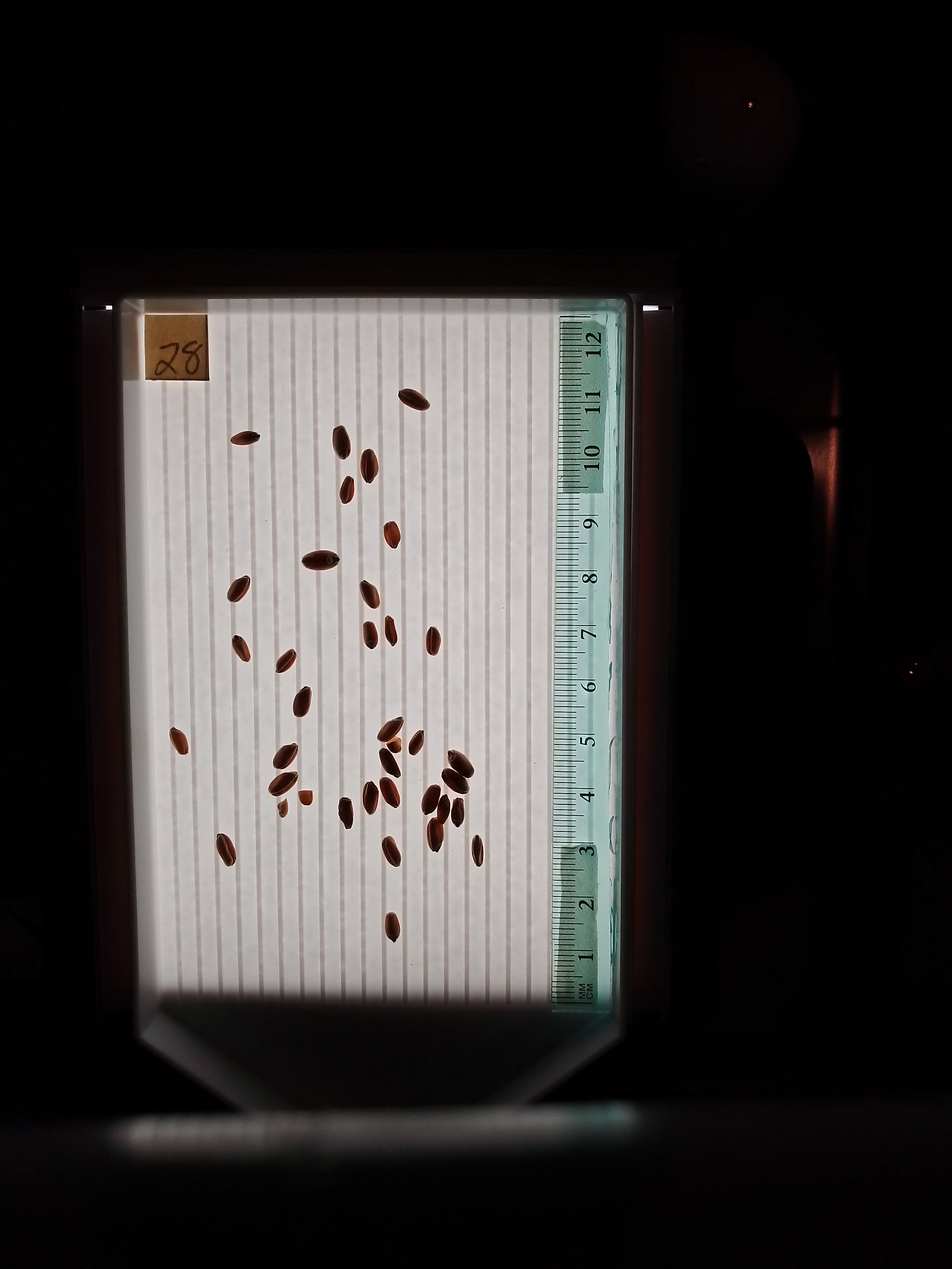seed mask: (302, 550, 339, 571), (447, 750, 474, 778), (268, 771, 297, 796), (399, 389, 430, 411), (443, 767, 468, 794), (426, 817, 445, 852), (216, 834, 236, 867), (360, 450, 379, 483), (273, 744, 297, 770), (378, 717, 402, 742), (333, 426, 351, 459), (380, 778, 400, 807), (228, 576, 250, 602), (380, 749, 400, 777), (360, 581, 380, 609), (293, 686, 311, 717), (382, 837, 401, 866), (362, 782, 379, 814), (421, 785, 440, 813), (170, 727, 189, 754), (275, 649, 296, 673), (232, 636, 251, 662), (362, 621, 379, 648), (339, 798, 354, 828), (231, 431, 260, 446), (339, 477, 355, 504), (385, 913, 400, 941), (425, 628, 441, 654), (384, 522, 400, 548), (451, 799, 465, 827), (384, 617, 398, 645), (472, 836, 484, 866), (409, 731, 424, 754), (437, 797, 448, 824)
